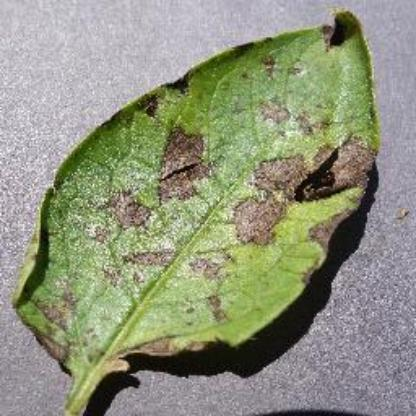Early-Blight: (19, 9, 386, 412)
